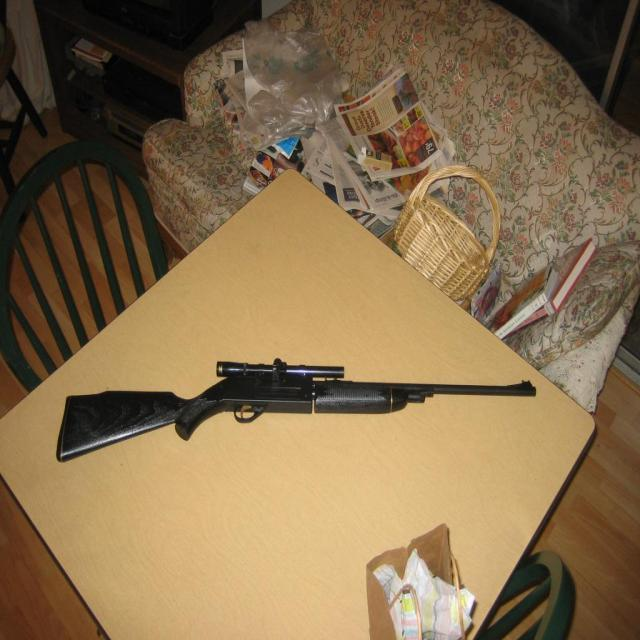weapon: (59, 360, 536, 460)
